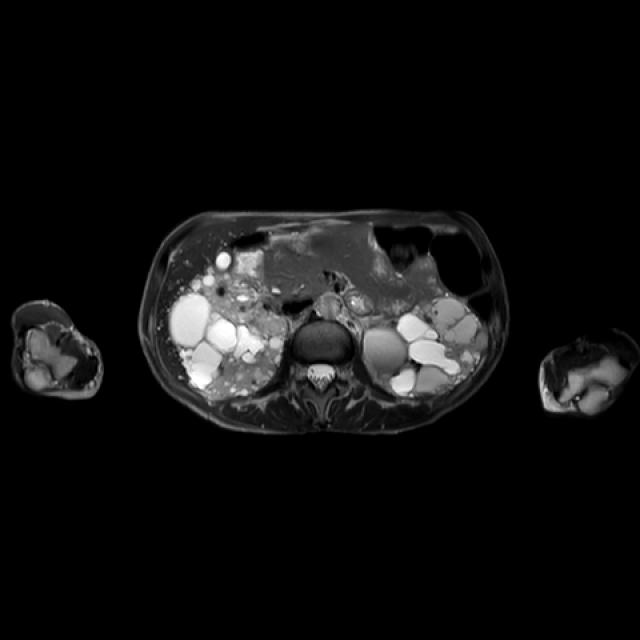sag: (169, 265, 287, 399)
sol: (362, 300, 484, 400)
